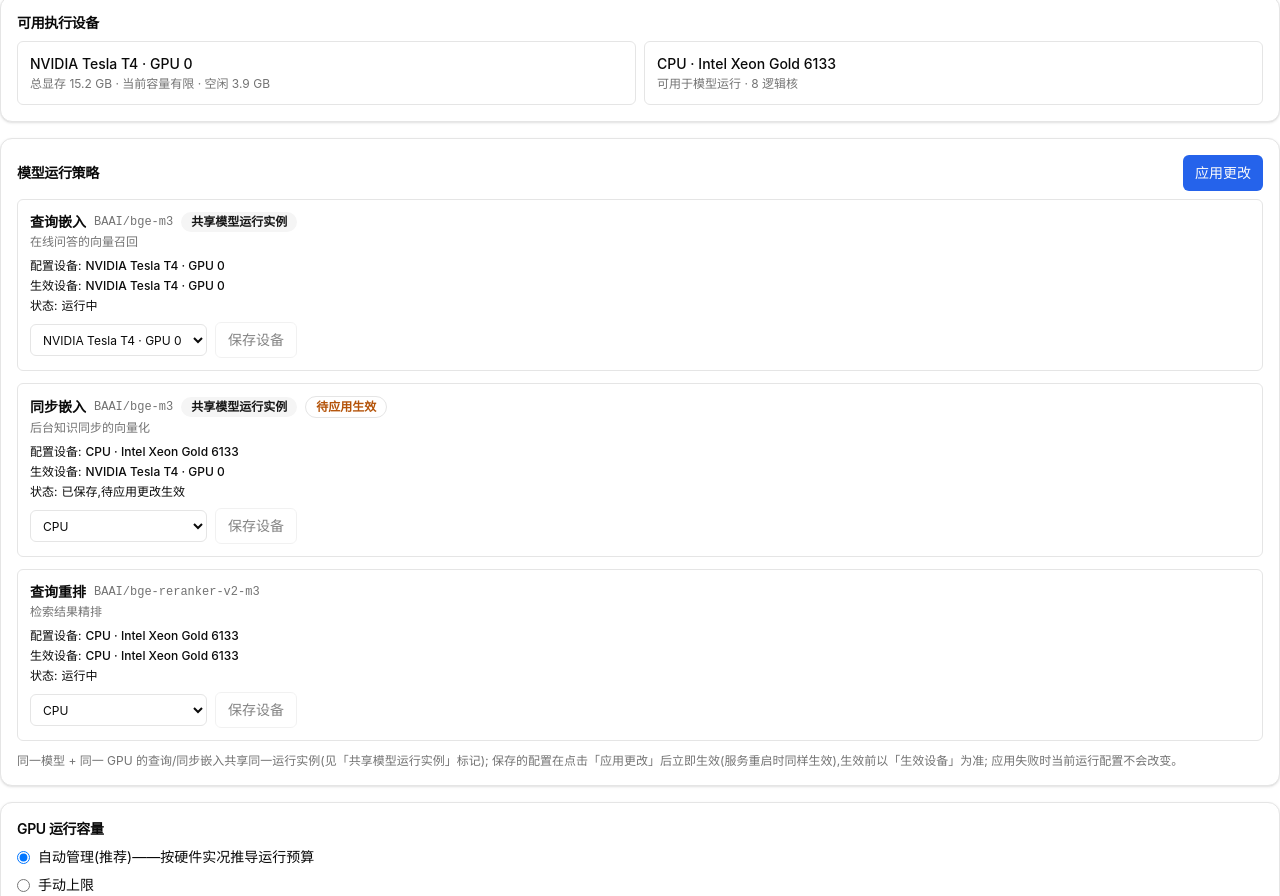
Test: ModelRuntimeTab(§35 模型运行) › Apply:有待生效配置时点击「应用更改」→ POST apply,成功后刷新为已生效真相
Click the button with test id "apply-runtime-button".
click(1223, 173)  # box [1183, 155, 1263, 191]
(page scrolled)
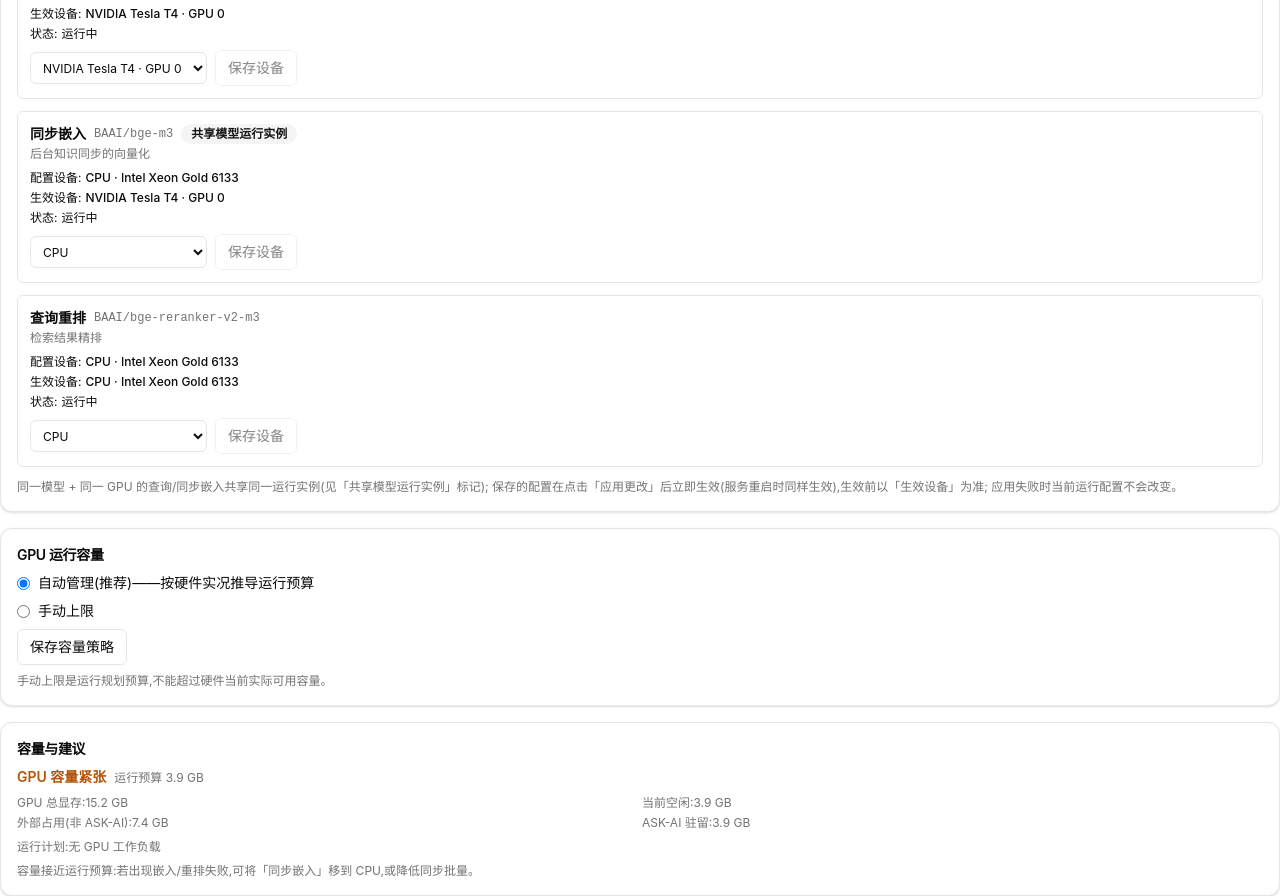
Expected: the text "待应用生效" is gone
Expected: the text with test id "runtime-plan" reads "运行计划:无 GPU 工作负载", [17, 839, 161, 854]
Expected: the button with test id "apply-runtime-button" is gone
